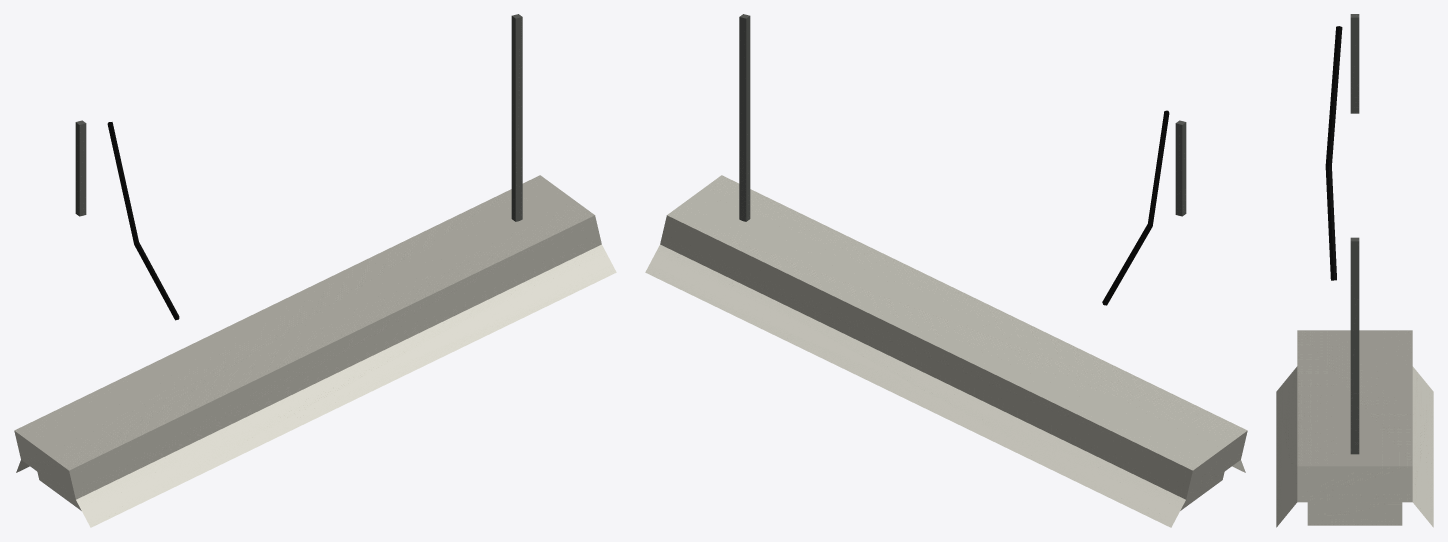
File: fluorescent_fixture_broken.glb
3 views of the same model, side by side, from view 1: azimuth 30°, elevation 25°; view 2: azimuth 150°, elevation 25°; view 3: azimuth 270°, elevation 25° (orthographic). The views are drawn at different scales.
Visible parts, largest first — view 1: FluorescentFixtureBroken; view 2: FluorescentFixtureBroken; view 3: FluorescentFixtureBroken.
Part boxes in pixels (x1,y1,x2,y2): FluorescentFixtureBroken: [14, 14, 616, 527]; FluorescentFixtureBroken: [645, 14, 1247, 527]; FluorescentFixtureBroken: [1276, 14, 1433, 527].
Size of the model in its own units: 1.24 by 0.8222 by 0.3.
Materials: 2 (1 with a texture image).
